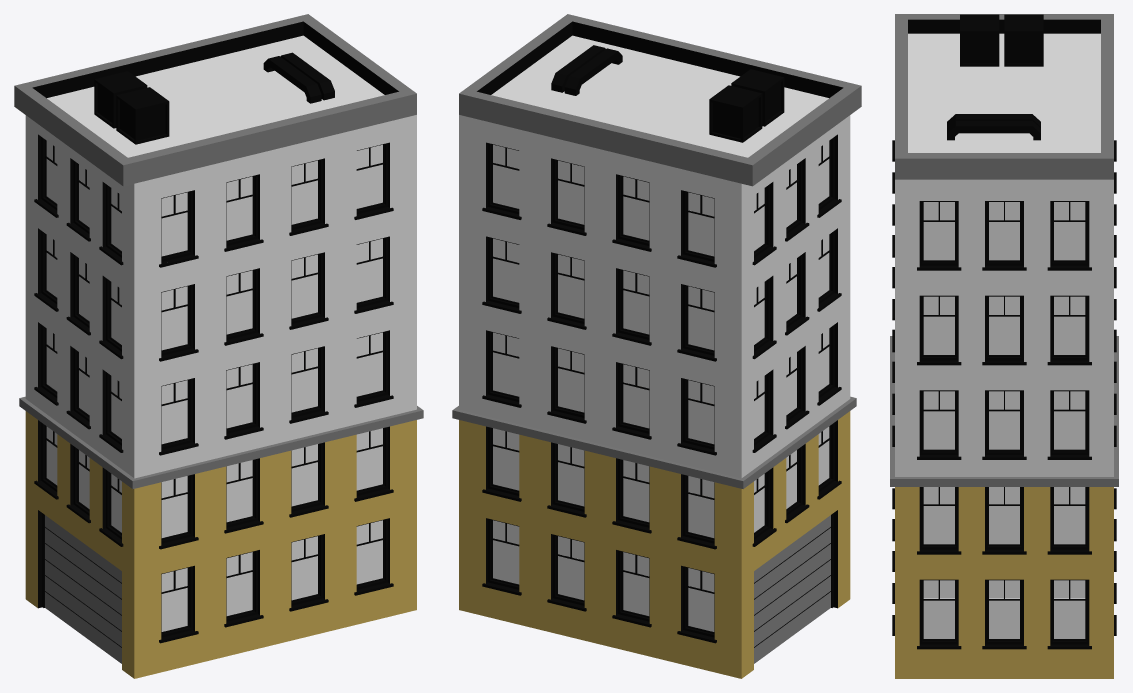
Rendered from School.fbx.
3 renders of one model, left to right at view 1: azimuth 30°, elevation 25°; view 2: azimuth 150°, elevation 25°; view 3: azimuth 270°, elevation 25°, orthographic.
Visible parts, largest first — view 1: SM_Bulding_T17; view 2: SM_Bulding_T17; view 3: SM_Bulding_T17.
Boxes of the visible parts, x1,y1,x2,y2 form: SM_Bulding_T17: (14,14,423,678); SM_Bulding_T17: (452,14,861,678); SM_Bulding_T17: (890,14,1118,678).
Size of the model in its own units: 991 by 1709 by 654.
